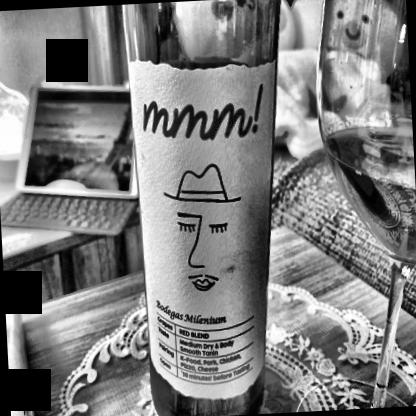umm: (127, 45, 282, 400)
